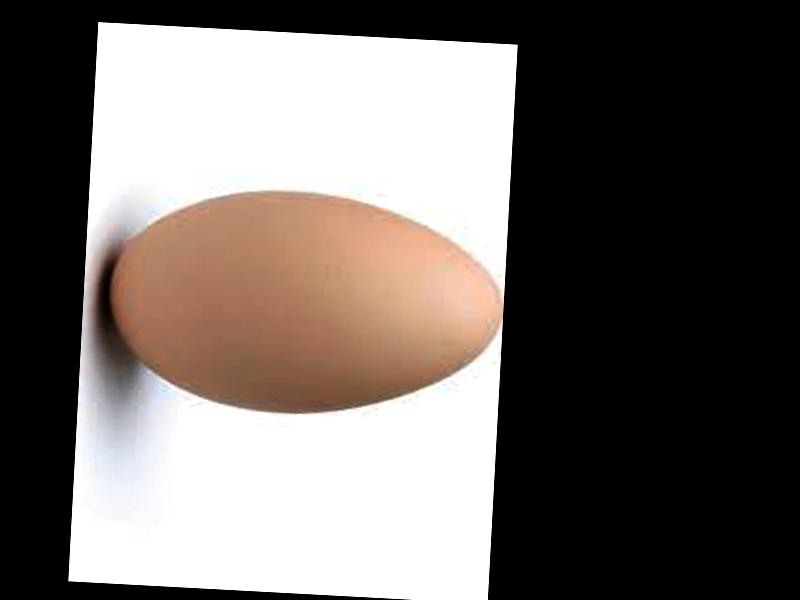Eggs: (100, 183, 506, 423)
